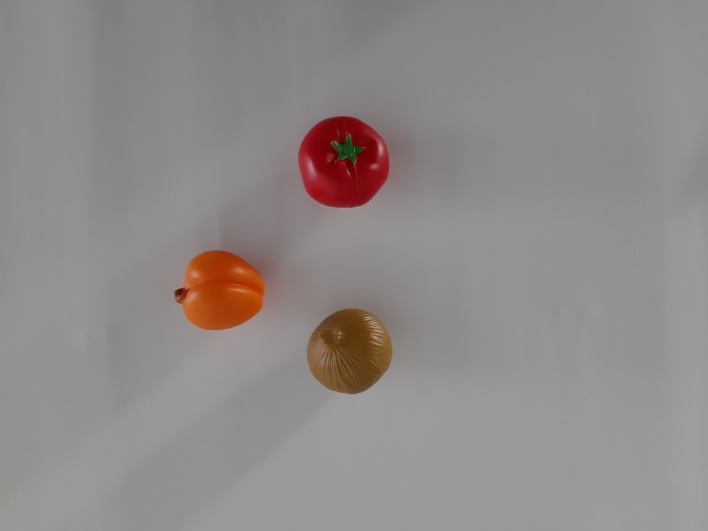apricot: (159, 238, 279, 348)
onion: (290, 302, 404, 405)
tomato: (283, 108, 409, 222)
